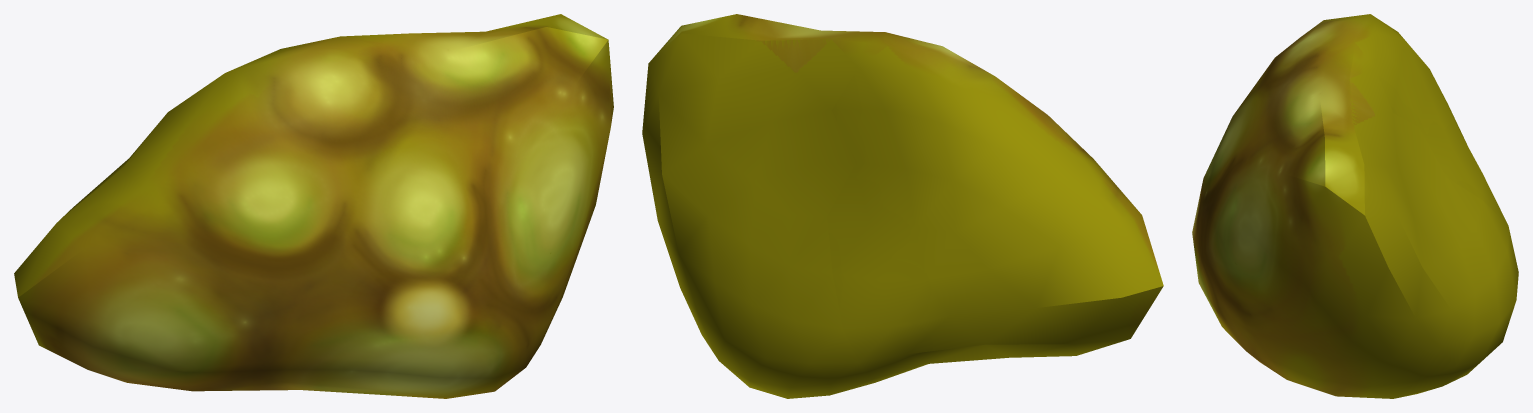
File: Bobble_Large.fbx
3 renders of one model, left to right at view 1: azimuth 30°, elevation 25°; view 2: azimuth 150°, elevation 25°; view 3: azimuth 270°, elevation 25°, orthographic. The views are drawn at different scales.
Parts seen in each view (by area): view 1: Bubble.001; view 2: Bubble.001; view 3: Bubble.001.
Boxes of the visible parts, <box> form: Bubble.001: <box>14,14,613,398</box>; Bubble.001: <box>642,14,1163,398</box>; Bubble.001: <box>1192,14,1518,398</box>.
Size of the model in its own units: 51.13 by 31.39 by 29.96.
1 material, 1 textured.
